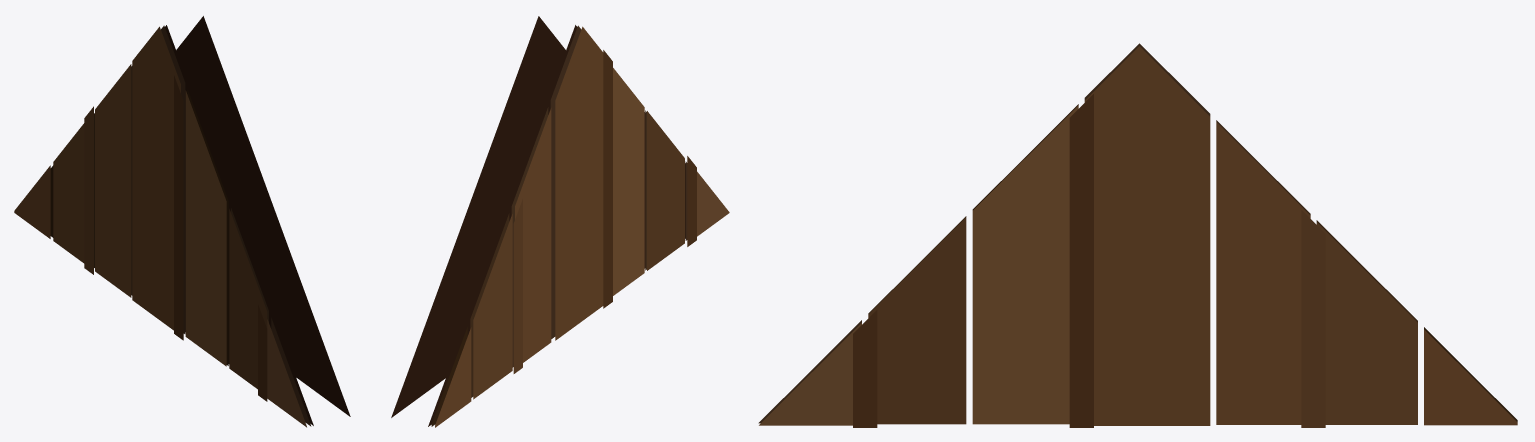
File: wall-timber-gable-peak-steep.glb
3 renders of one model, left to right at view 1: azimuth 30°, elevation 25°; view 2: azimuth 150°, elevation 25°; view 3: azimuth 270°, elevation 25°, orthographic. The views are drawn at different scales.
Visible parts, largest first — view 1: wall-timber-gable-peak-steep; view 2: wall-timber-gable-peak-steep; view 3: wall-timber-gable-peak-steep.
Boxes of the visible parts, x1,y1,x2,y2 form: wall-timber-gable-peak-steep: (14, 16, 350, 427); wall-timber-gable-peak-steep: (391, 16, 729, 427); wall-timber-gable-peak-steep: (758, 43, 1517, 427).
Bounding box in the file's own units: 0.112 × 0.55 × 1.
